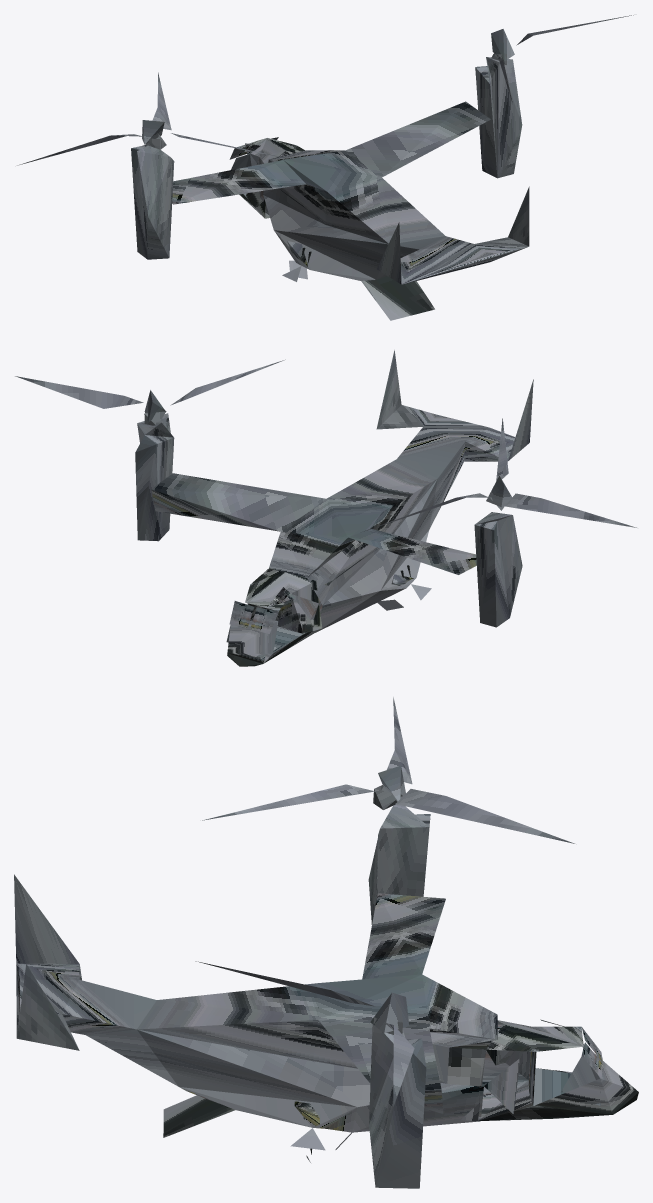
3 views of the same model, one above another, from view 1: azimuth 30°, elevation 25°; view 2: azimuth 150°, elevation 25°; view 3: azimuth 270°, elevation 25° (orthographic). The views are drawn at different scales.
Parts seen in each view (by area): view 1: Object_2; view 2: Object_2; view 3: Object_2.
Part boxes in pixels (x1,y1,x2,y2): Object_2: (17, 15, 633, 320); Object_2: (15, 350, 636, 666); Object_2: (14, 697, 638, 1188).
Bounding box in the file's own units: 964 × 274 × 616.
1 material, 1 textured.
